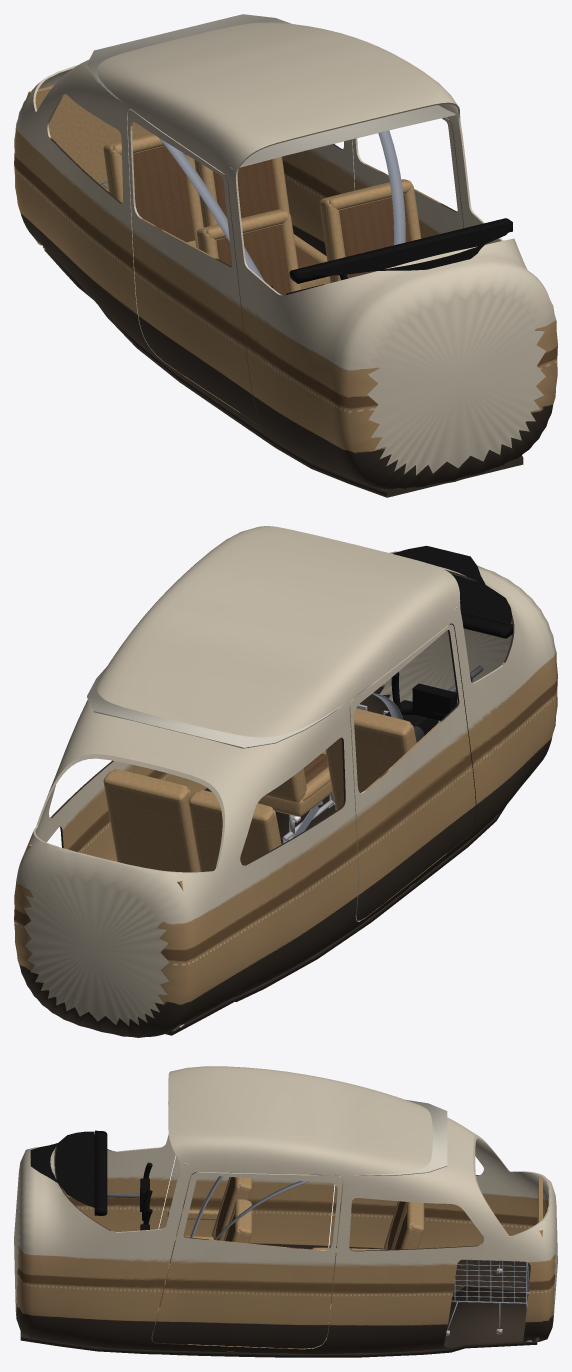
File: INTERIOR.glb
3 renders of one model, top to bottom at view 1: azimuth 30°, elevation 25°; view 2: azimuth 150°, elevation 25°; view 3: azimuth 270°, elevation 25°, orthographic. The views are drawn at different scales.
Visible parts, largest first — view 1: INTERIOR.cabin_liner, INTERIOR.door_panel_R, INTERIOR.headliner, INTERIOR.glareshield, INTERIOR.seat_rear.back_insert_R, INTERIOR.baggage_bulkhead, INTERIOR.seat_pilot.back, INTERIOR.door_panel_L, INTERIOR.seat_pilot.back_insert, INTERIOR.seat_copilot.back_insert, INTERIOR.floor, INTERIOR.seat_rear.back_insert_L (+5 smaller); view 2: INTERIOR.cabin_liner, INTERIOR.door_panel_R, INTERIOR.seat_rear.back_L, INTERIOR.seat_copilot.back, INTERIOR.glareshield, INTERIOR.seat_rear.back_R, INTERIOR.headliner, INTERIOR.floor, INTERIOR.yoke_R, INTERIOR.seat_pilot.cushion, INTERIOR.seat_pilot.back, INTERIOR.door_panel_L; view 3: INTERIOR.cabin_liner, INTERIOR.door_panel_L, INTERIOR.door_panel_R, INTERIOR.floor, INTERIOR.glareshield, INTERIOR.baggage_net, INTERIOR.headliner, INTERIOR.seat_rear.back_L, INTERIOR.seat_copilot.back, INTERIOR.seat_pilot.back, INTERIOR.yoke_R, INTERIOR.shoulder_harness_L (+1 smaller).
Part boxes in pixels (<box>): INTERIOR.cabin_liner: <box>14,22,557,489</box>; INTERIOR.door_panel_R: <box>127,109,261,425</box>; INTERIOR.headliner: <box>87,14,455,169</box>; INTERIOR.glareshield: <box>289,218,512,283</box>; INTERIOR.seat_rear.back_insert_R: <box>133,146,195,242</box>; INTERIOR.baggage_bulkhead: <box>26,85,151,245</box>; INTERIOR.seat_pilot.back: <box>319,179,421,282</box>; INTERIOR.door_panel_L: <box>352,117,463,238</box>; INTERIOR.seat_pilot.back_insert: <box>339,194,410,278</box>; INTERIOR.seat_copilot.back_insert: <box>216,224,291,295</box>; INTERIOR.floor: <box>44,249,523,497</box>; INTERIOR.seat_rear.back_insert_L: <box>213,159,278,217</box>; INTERIOR.cabin_liner: <box>14,526,557,1037</box>; INTERIOR.door_panel_R: <box>349,624,475,920</box>; INTERIOR.seat_rear.back_L: <box>103,769,200,872</box>; INTERIOR.seat_copilot.back: <box>325,708,416,810</box>; INTERIOR.glareshield: <box>392,545,512,638</box>; INTERIOR.seat_rear.back_R: <box>188,790,281,871</box>; INTERIOR.headliner: <box>87,607,457,748</box>; INTERIOR.floor: <box>165,795,506,1035</box>; INTERIOR.yoke_R: <box>391,672,456,720</box>; INTERIOR.seat_pilot.cushion: <box>258,750,332,816</box>; INTERIOR.seat_pilot.back: <box>265,768,306,802</box>; INTERIOR.door_panel_L: <box>133,765,211,795</box>; INTERIOR.cabin_liner: <box>14,1066,557,1357</box>; INTERIOR.door_panel_L: <box>152,1172,342,1348</box>; INTERIOR.door_panel_R: <box>159,1156,334,1249</box>; INTERIOR.floor: <box>20,1286,537,1357</box>; INTERIOR.glareshield: <box>30,1130,107,1215</box>; INTERIOR.baggage_net: <box>431,1247,529,1330</box>; INTERIOR.headliner: <box>184,1099,447,1175</box>; INTERIOR.seat_rear.back_L: <box>392,1202,424,1249</box>; INTERIOR.seat_copilot.back: <box>212,1172,252,1240</box>; INTERIOR.seat_pilot.back: <box>223,1199,252,1243</box>; INTERIOR.yoke_R: <box>140,1162,152,1221</box>; INTERIOR.shoulder_harness_L: <box>214,1181,309,1240</box>.
Bounding box in the file's own units: 1.04 × 1.38 × 2.89.
16 materials, 9 textured.
